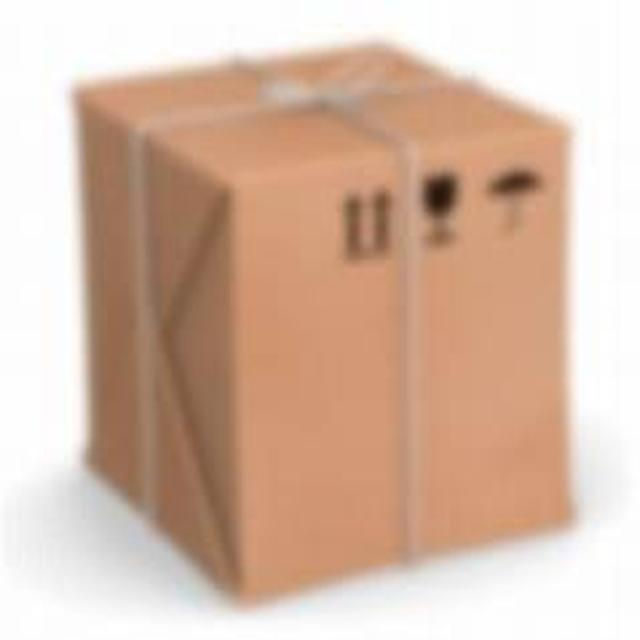box: (55, 54, 600, 582)
